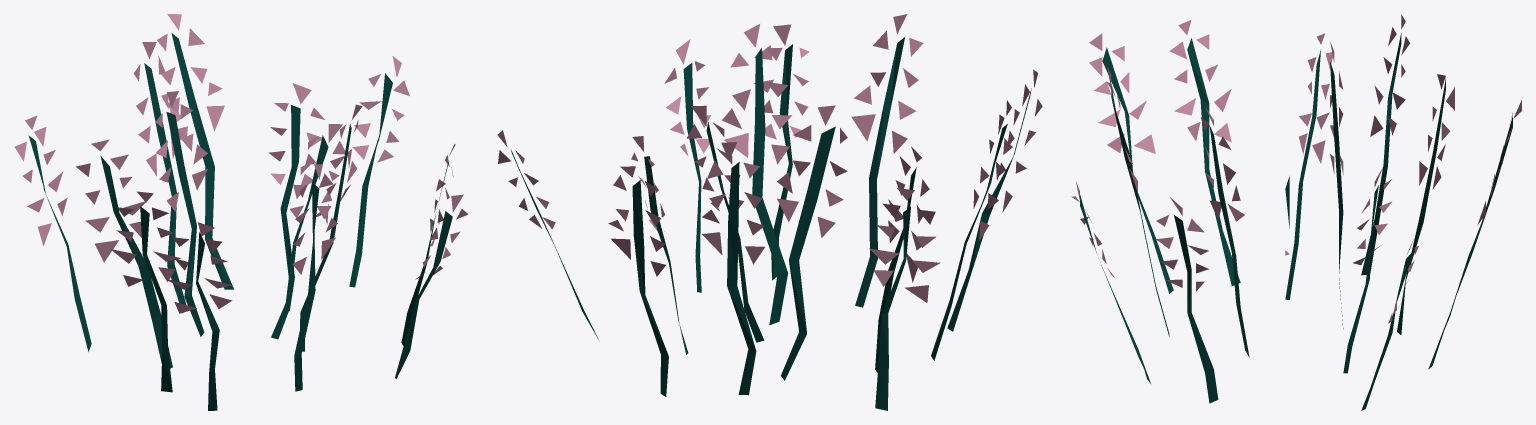
The model's file is obj_heather_1_0.obj.
3 renders of one model, left to right at view 1: azimuth 30°, elevation 25°; view 2: azimuth 150°, elevation 25°; view 3: azimuth 270°, elevation 25°, orthographic. The views are drawn at different scales.
Bounding box in the file's own units: 0.8438 × 0.5234 × 0.7891.
